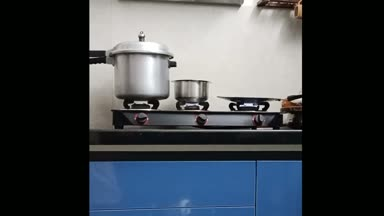flame_gas_off: (123, 99, 158, 125)
flame_gas_on: (236, 102, 271, 126), (177, 102, 210, 126)
